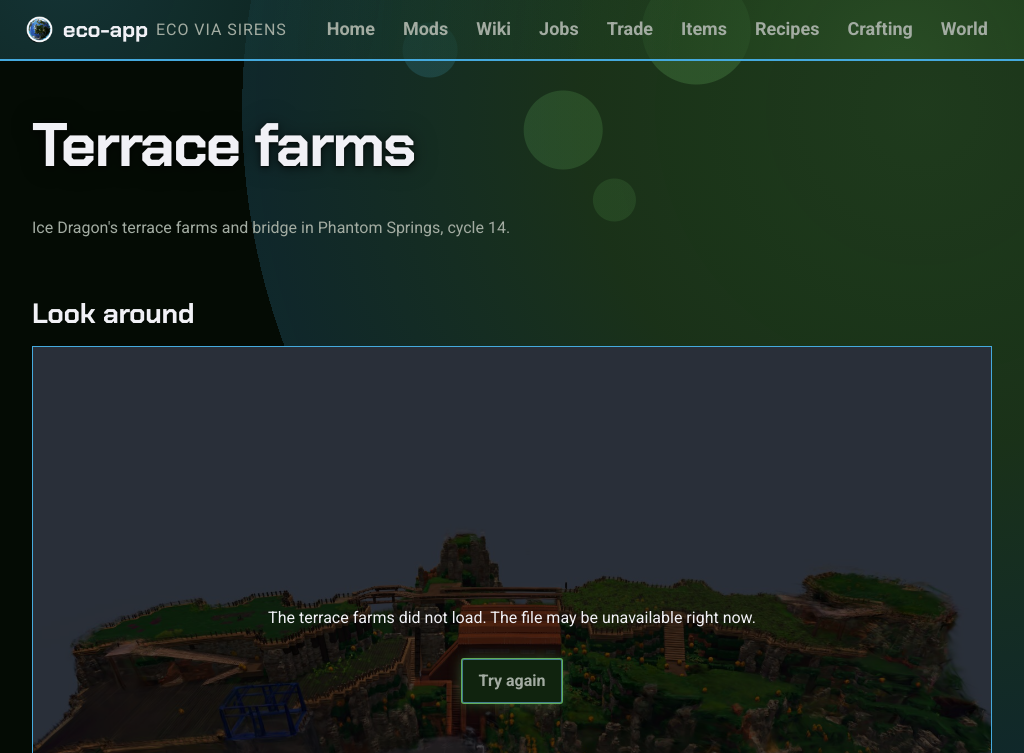
Test case: Terrace farms splat page › shows a failure with a way to retry, and retries the same file
Click the button "Try again". click: (512, 681)
box: [462,659,562,703]
(page scrolled)
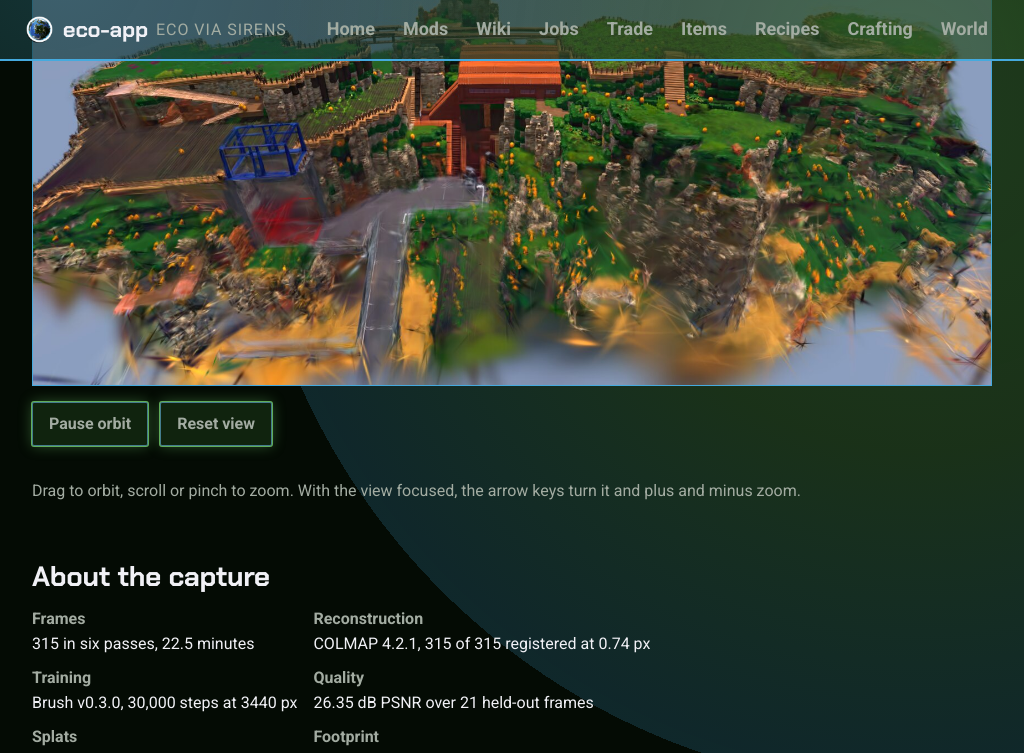
Expected: the button with aria-label "view controls" is shown, [32,402,272,446]
